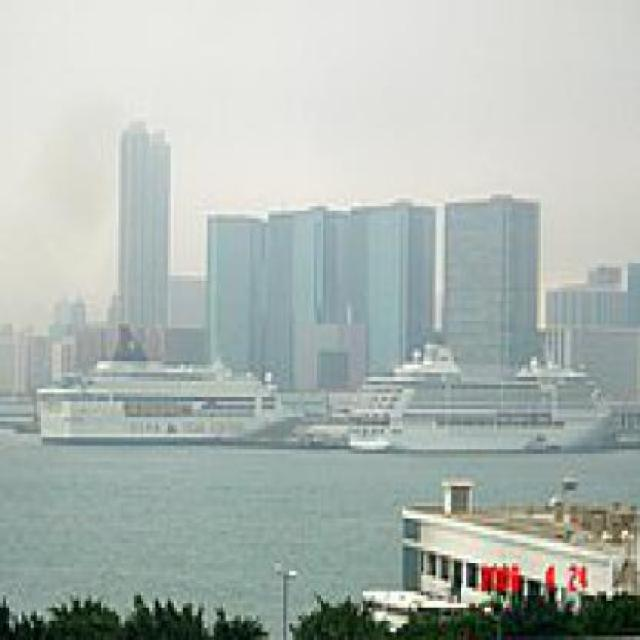cruise: (26, 329, 324, 460), (343, 346, 626, 467)
